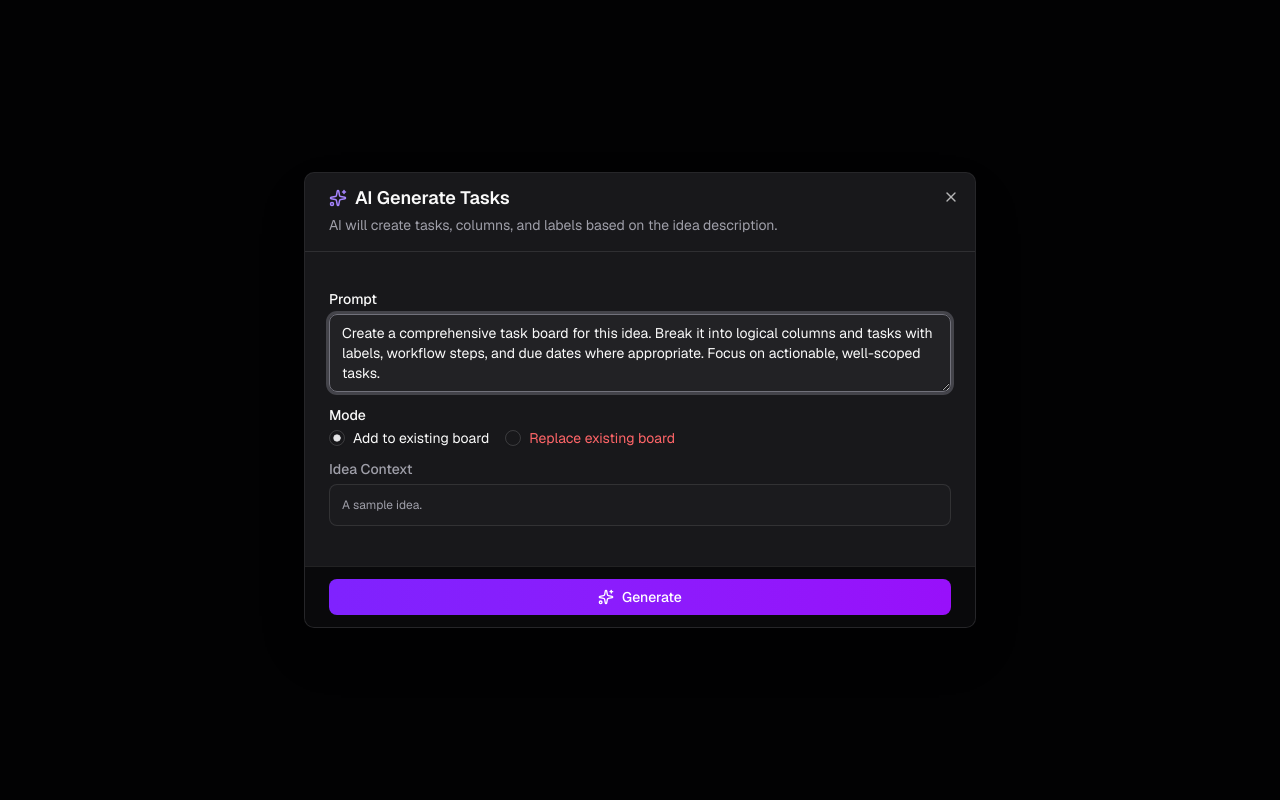
Test: AiGenerateDialog — Generate the rest › D1: sends the list so far with the same prompt, appends the new tasks, clears the bar
The width and height of the screenshot is (1280, 800).
Click the button "Generate" at [640, 597], box [329,579,951,615]
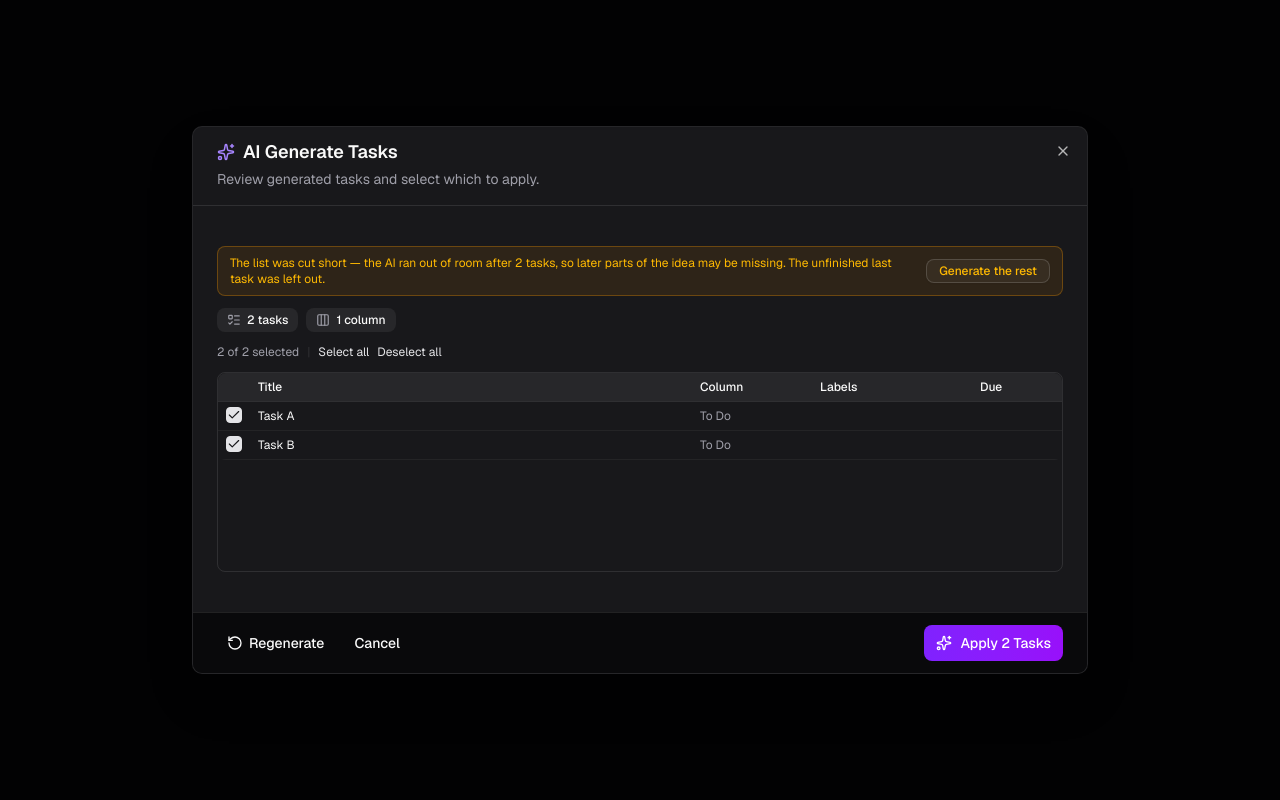
Click the button "Generate the rest" at [988, 271], box [926,259,1050,283]
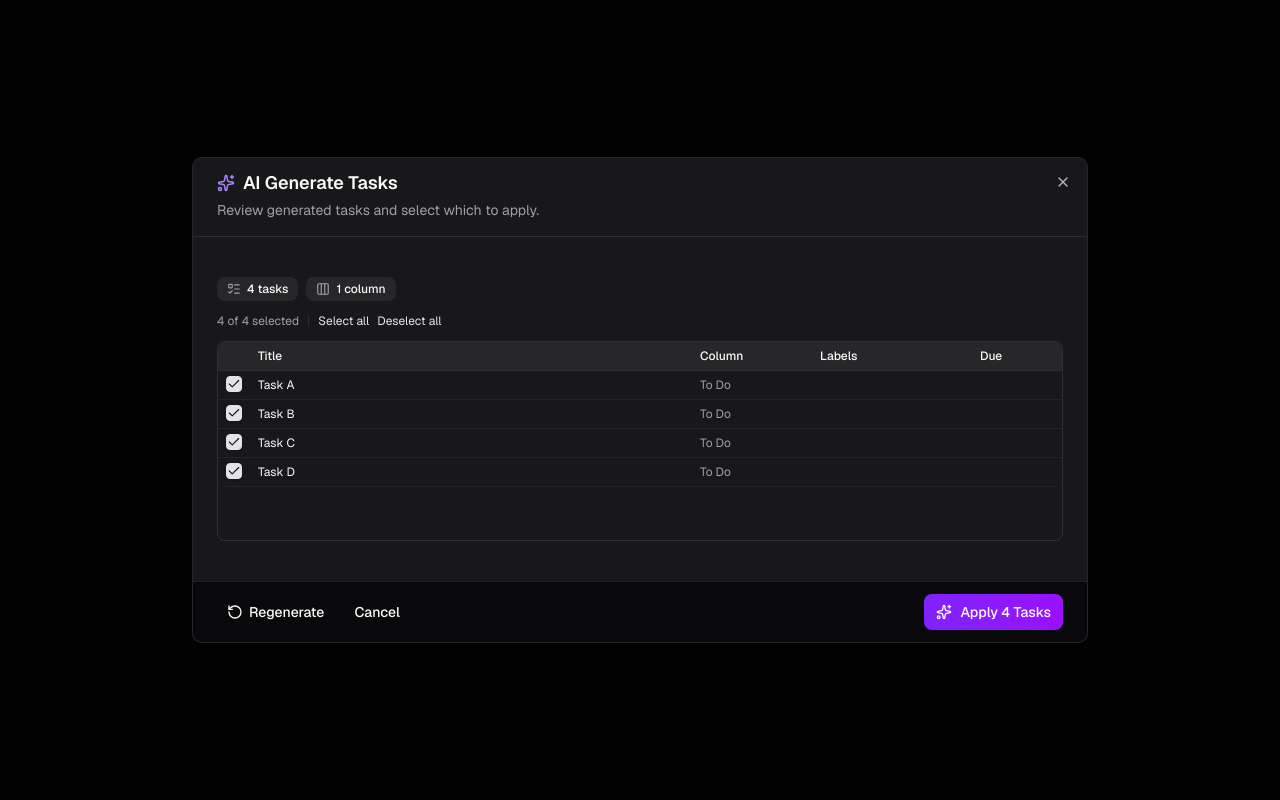
Check: the text "To Do" in the row of "Task A" is shown, box [700,377,731,393]
Check: the text "The list was cut short" is gone
Check: the button "Generate the rest" is gone
